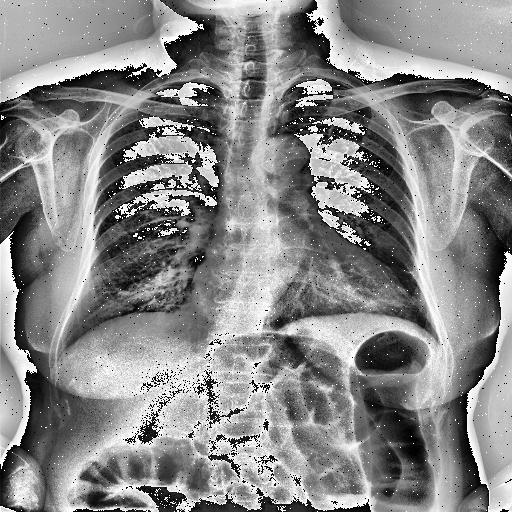0- Aortic enlargement: (250, 132, 316, 193), (252, 133, 315, 195), (258, 134, 312, 173)
3- Cardiomegaly: (189, 236, 410, 317), (186, 256, 411, 322), (190, 272, 408, 318)
